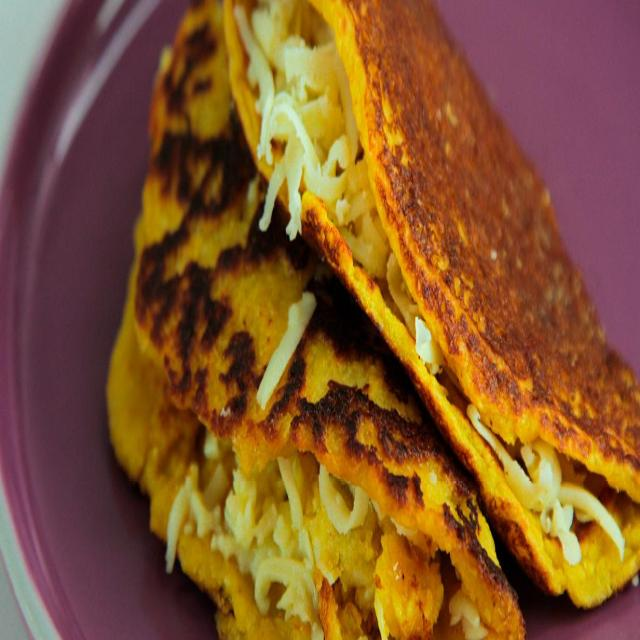arepa: (303, 2, 640, 516)
